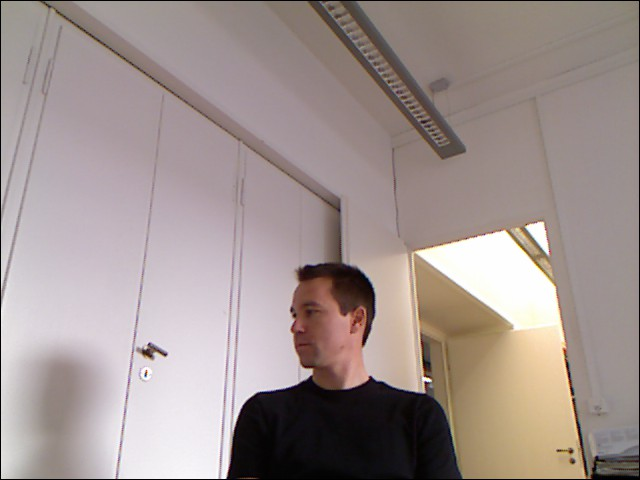deflection: (237, 261, 454, 444)
